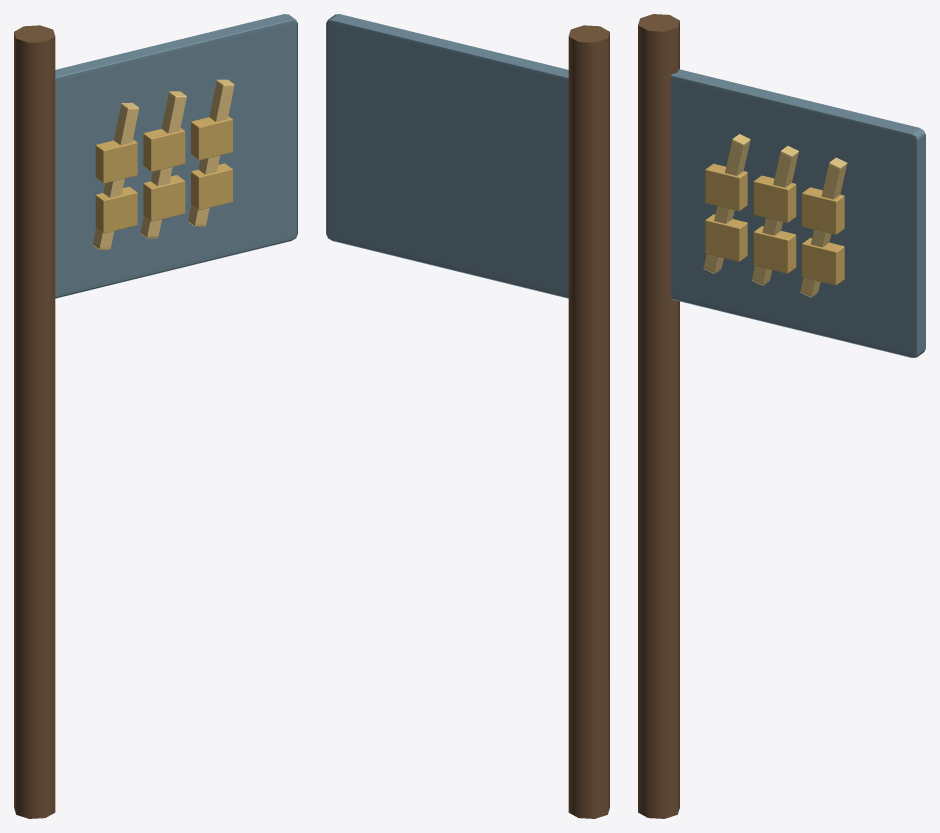
The model's file is wheatbanner-2.glb.
3 views of the same model, side by side, from view 1: azimuth 30°, elevation 25°; view 2: azimuth 150°, elevation 25°; view 3: azimuth 330°, elevation 25° (orthographic).
Parts seen in each view (by area): view 1: wheatbanner-2-0; view 2: wheatbanner-2-0; view 3: wheatbanner-2-0.
Boxes of the visible parts, <box> form: wheatbanner-2-0: <box>14,14,297,818</box>; wheatbanner-2-0: <box>326,14,609,818</box>; wheatbanner-2-0: <box>638,14,925,818</box>.
Bounding box in the file's own units: 0.525 × 1.4 × 0.0735.
